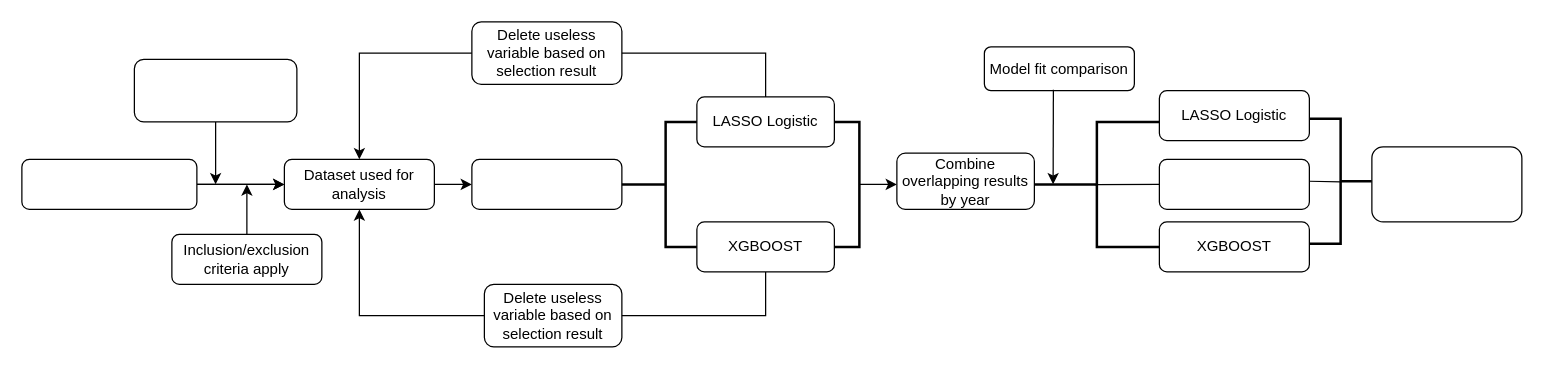
Some shapes in this 1544 by 369 pixel diagram are drawn without their labels. Here are the shapes that lost their labels. From the top down, the centre of each, then its label:
point (215, 90): Basic data merge and cleaning
point (109, 183): NHANES original datasets (1999-2018)
point (546, 183): Oversampling using SMOTE
point (1233, 183): Logistic
point (1446, 184): Model Evaluation
